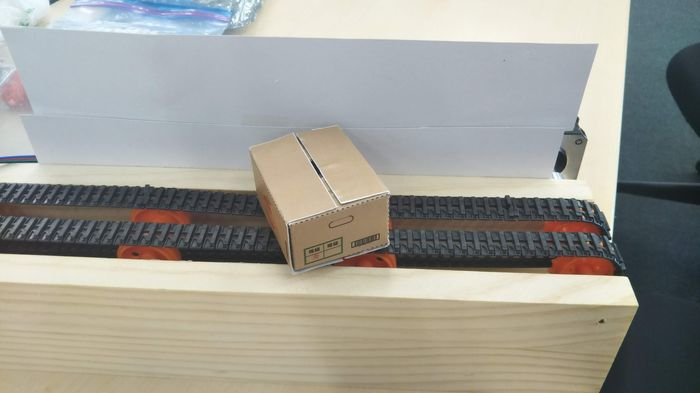box1: (246, 120, 394, 275)
